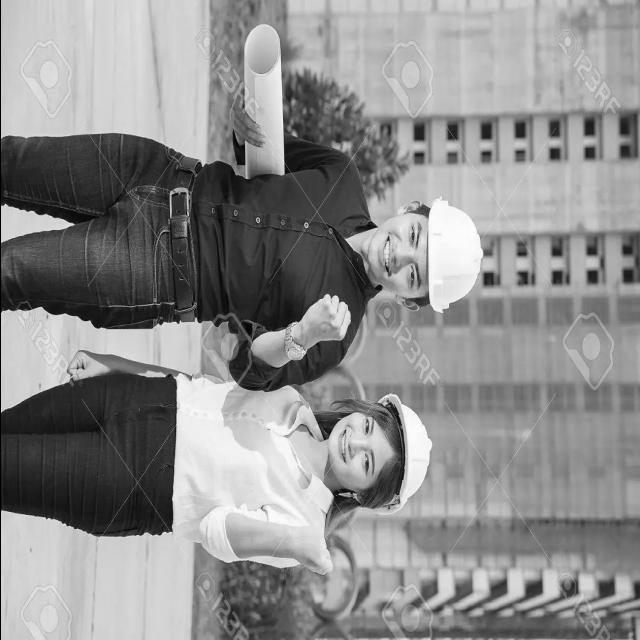construction helmet: (363, 394, 431, 515)
